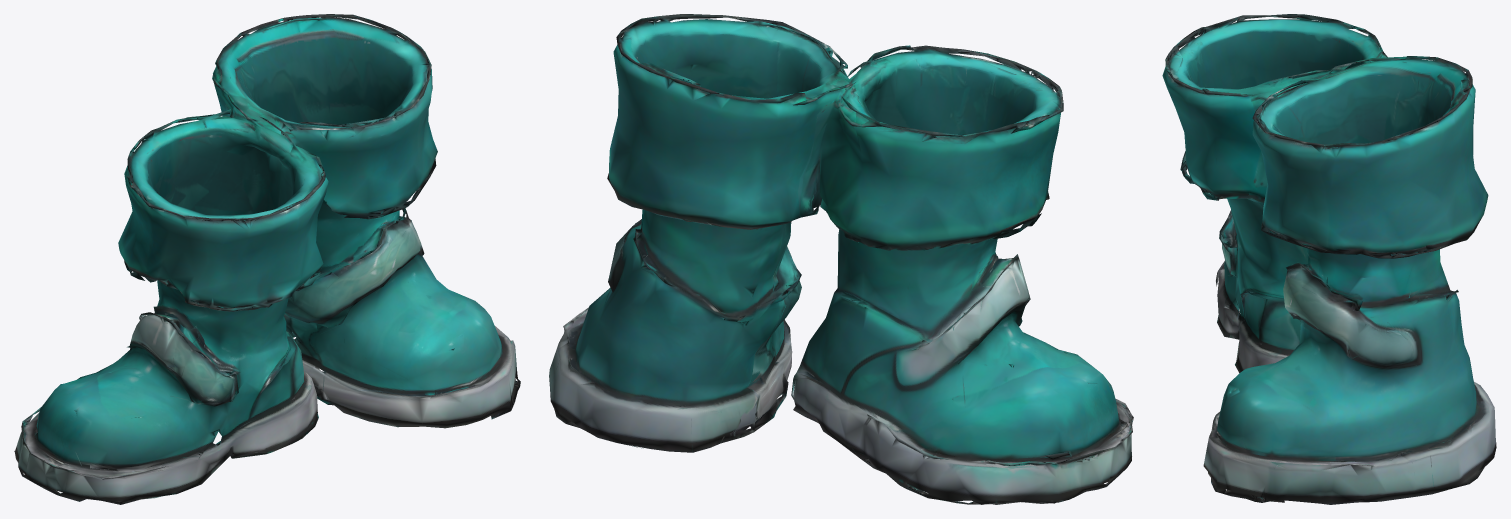
The model's file is Enchanted_Boots_0605071917_texture.fbx.
The picture shows the model from 3 angles, left to right: view 1: azimuth 30°, elevation 25°; view 2: azimuth 150°, elevation 25°; view 3: azimuth 270°, elevation 25°; orthographic projection. The views are drawn at different scales.
Parts seen in each view (by area): view 1: Mesh1; view 2: Mesh1; view 3: Mesh1.
Part boxes in pixels (x1=…): Mesh1: x1=14, y1=14, x2=520, y2=504; Mesh1: x1=549, y1=14, x2=1133, y2=504; Mesh1: x1=1162, y1=14, x2=1496, y2=504.
Size of the model in its own units: 199 by 135 by 116.
Materials: 1 (1 with a texture image).
